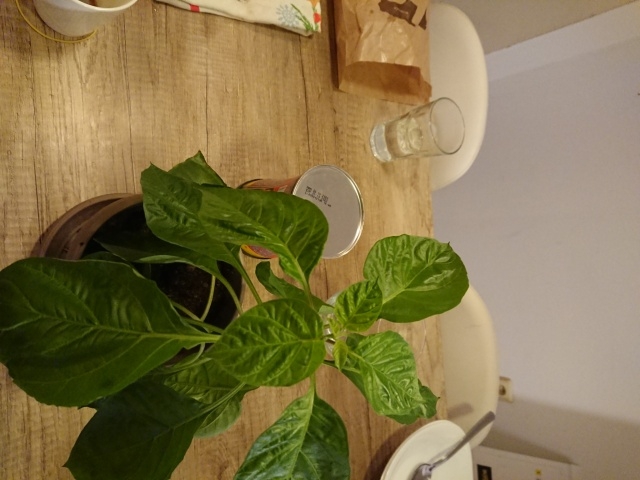Nescafe Classic 225g: (226, 162, 368, 263)
